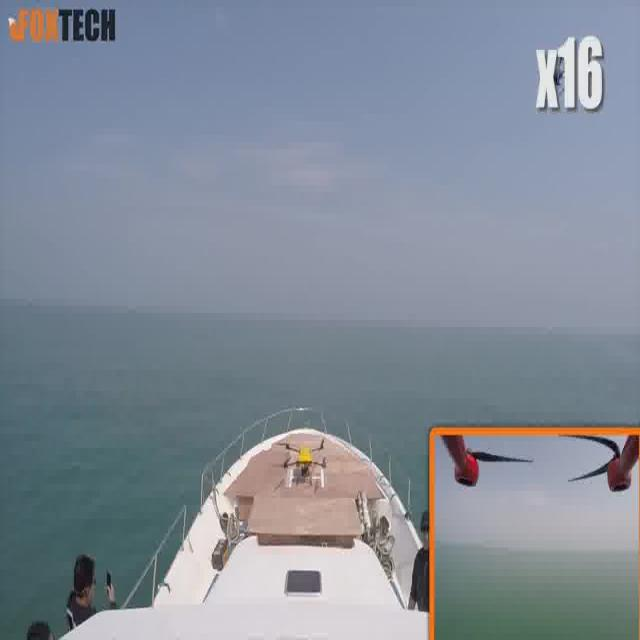Drone_FW: (278, 439, 334, 496)
